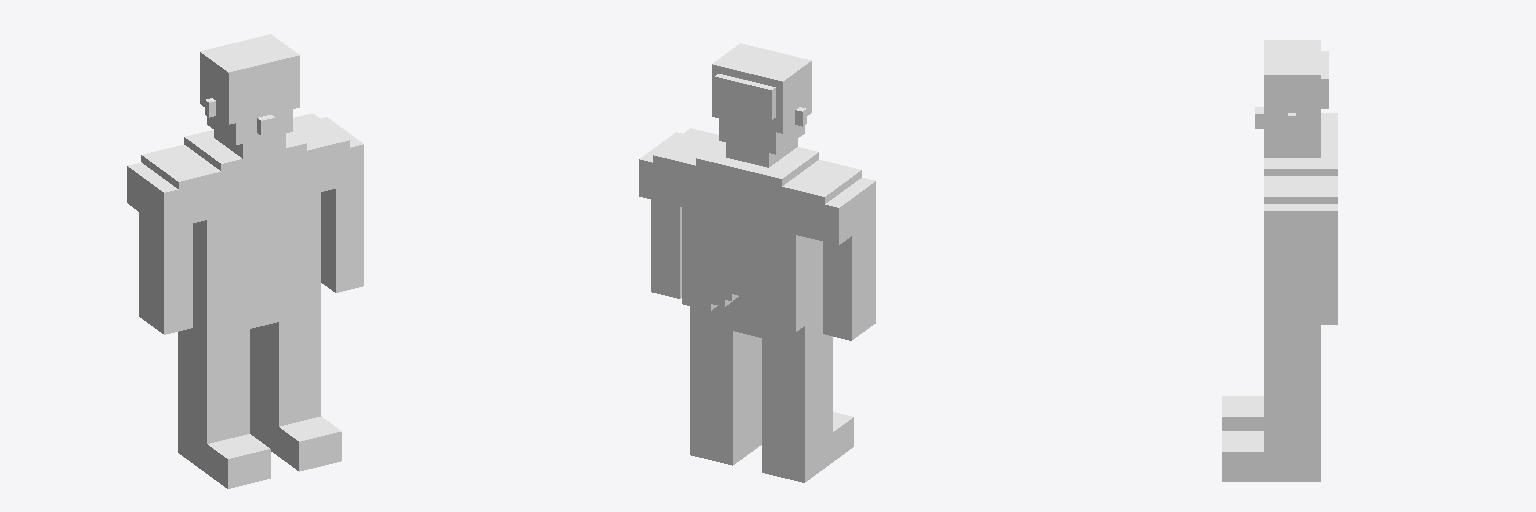
File: slave.obj
The picture shows the model from 3 angles: view 1: azimuth 30°, elevation 25°; view 2: azimuth 150°, elevation 25°; view 3: azimuth 270°, elevation 25°; orthographic projection.
Bounding box in the file's own units: 28 × 53 × 14.